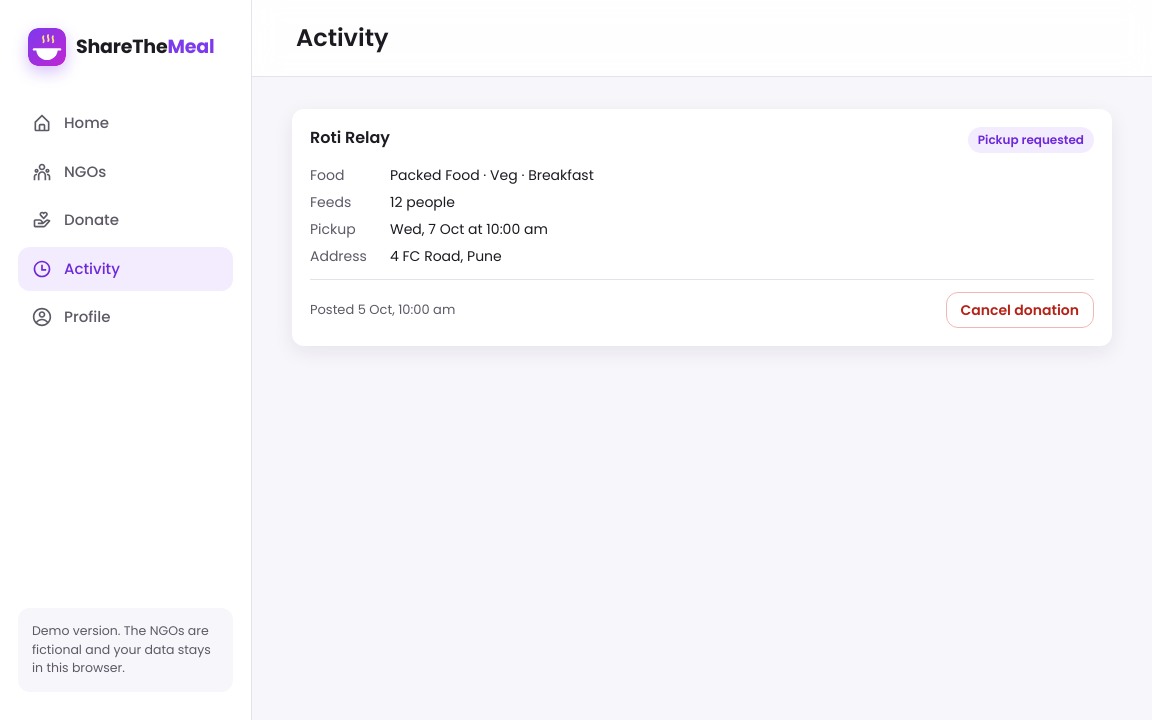
Scenario: activity › cancels a donation after confirmation
Click the button "Cancel donation". click: (1020, 310)
box: [946, 292, 1094, 328]
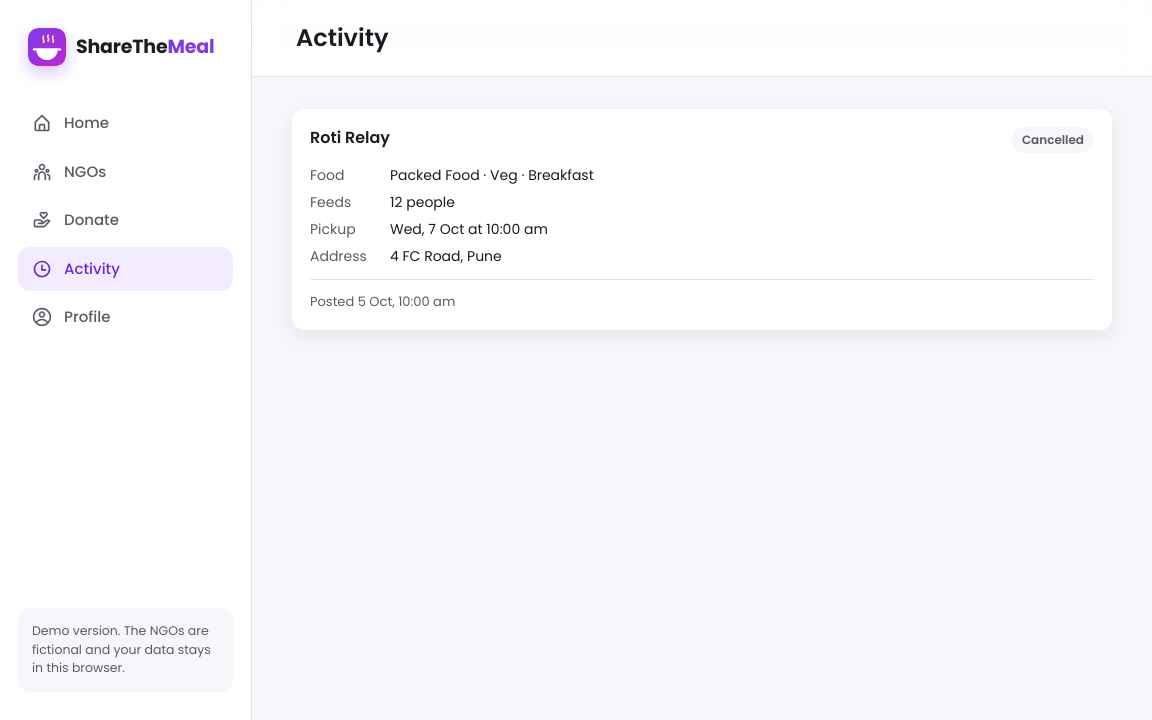
Expected: the text "Cancelled" is shown, [1012, 127, 1094, 153]
Expected: the button "Cancel donation" is gone
